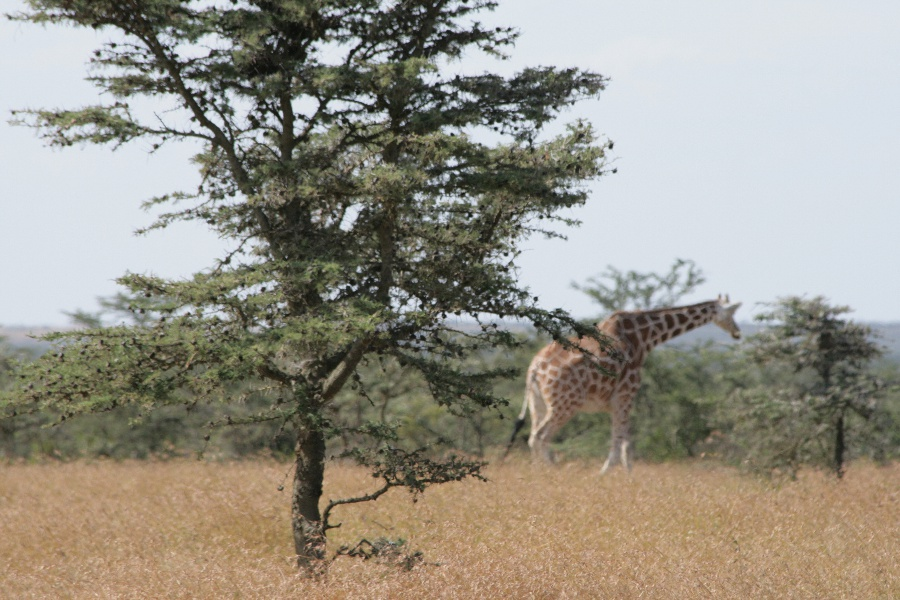giraffe: (512, 292, 753, 479)
